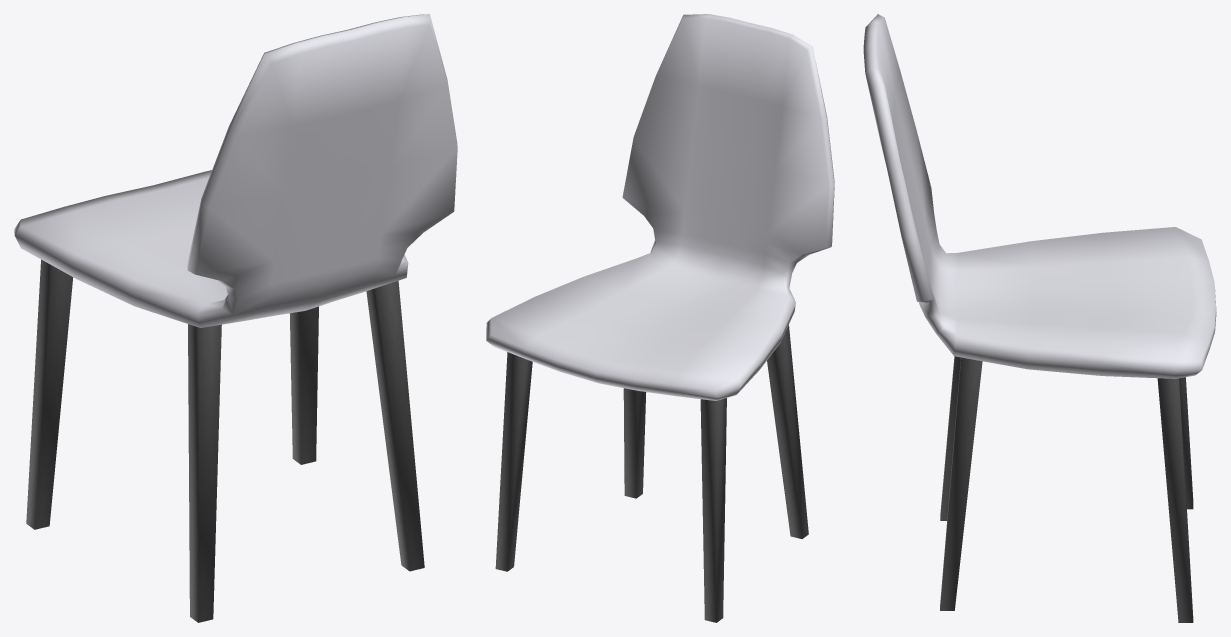
File: frl_apartment_chair_04.glb
The picture shows the model from 3 angles, left to right: view 1: azimuth 30°, elevation 25°; view 2: azimuth 150°, elevation 25°; view 3: azimuth 270°, elevation 25°; orthographic projection. The views are drawn at different scales.
Parts seen in each view (by area): view 1: frl_apartment_chair_04; view 2: frl_apartment_chair_04; view 3: frl_apartment_chair_04.
Boxes of the visible parts, left/top/right/bottom form: frl_apartment_chair_04: left=14, top=14, right=457, bottom=622; frl_apartment_chair_04: left=486, top=14, right=834, bottom=622; frl_apartment_chair_04: left=863, top=14, right=1216, bottom=622.
Size of the model in its own units: 0.4901 by 0.8579 by 0.5279.
1 material, 1 textured.
